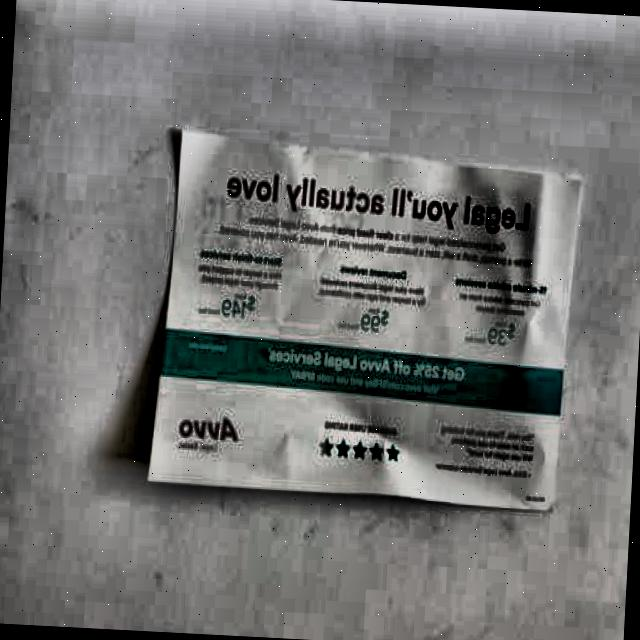paper: (144, 121, 595, 508)
